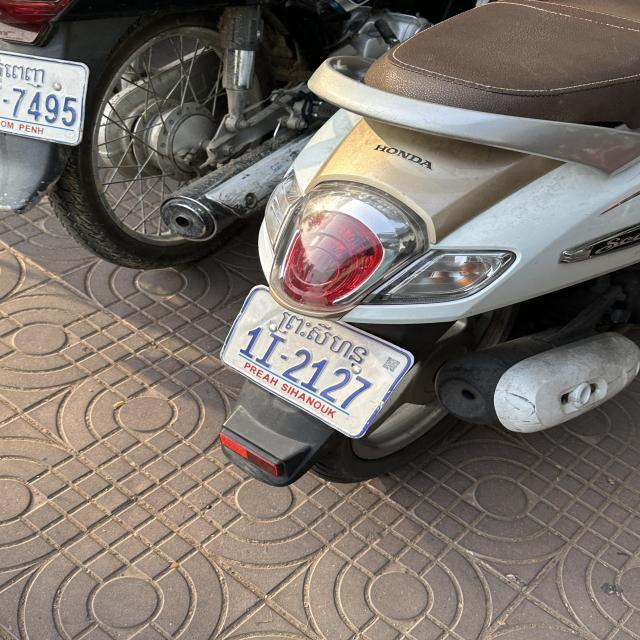Preah_Sihanouk: (277, 309, 370, 372)
